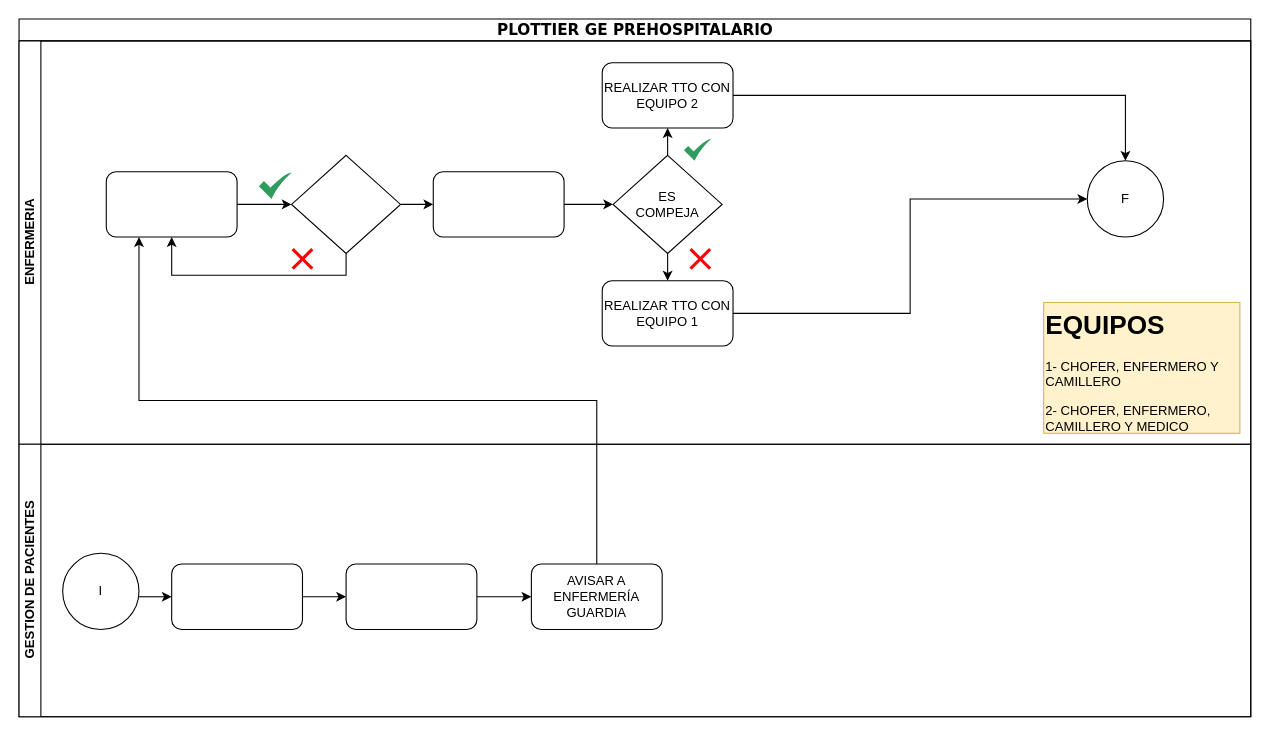
Some shapes in this 1270 by 736 pixel diagram are drawn without their labels. The shapes that lost their labels are listed below. From the top down, each one's centre as x and y in pixels, then its label:
At point (171, 204): "COORDINAR AMBULANCIA".
At point (345, 203): "HAY DISPONIBILIDAD".
At point (498, 204): "CONTROLAR COMPLEJIDAD".
At point (236, 596): "RECIBE LLAMADO 107 O RADIO".
At point (411, 596): "REGISTRAR LLAMADO DE 107 CON TODOS LOS DATOS".
